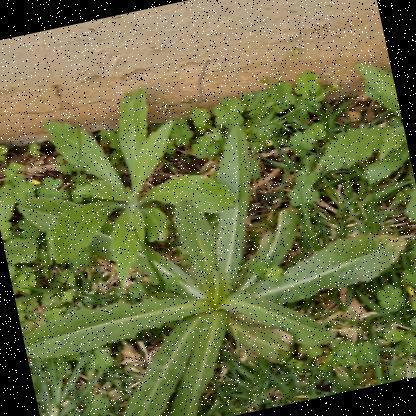Weeds: (0, 95, 415, 415), (18, 71, 247, 299), (306, 56, 415, 246)
